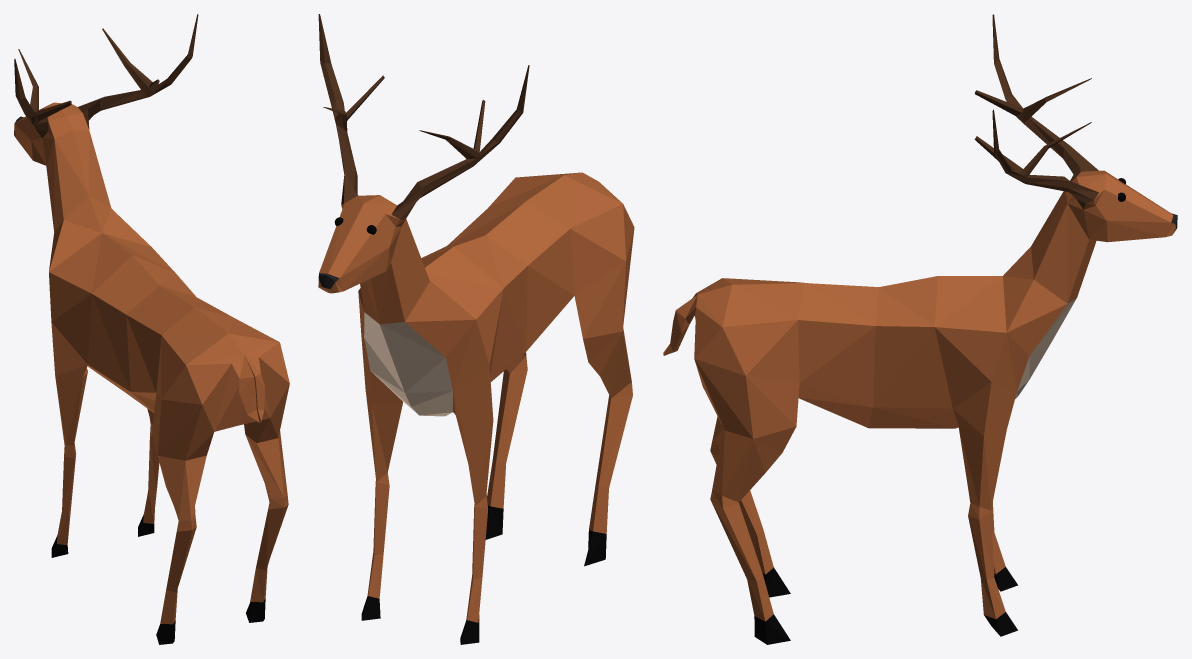
Rendered from Reno.fbx.
The picture shows the model from 3 angles, left to right: view 1: azimuth 30°, elevation 25°; view 2: azimuth 150°, elevation 25°; view 3: azimuth 270°, elevation 25°; orthographic projection. The views are drawn at different scales.
Visible parts, largest first — view 1: eyes; view 2: eyes; view 3: eyes.
Part boxes in pixels (<box>): eyes: <box>14,14,289,644</box>; eyes: <box>318,14,634,644</box>; eyes: <box>663,14,1177,644</box>.
Bounding box in the file's own units: 24.31 × 65.42 × 54.89.
